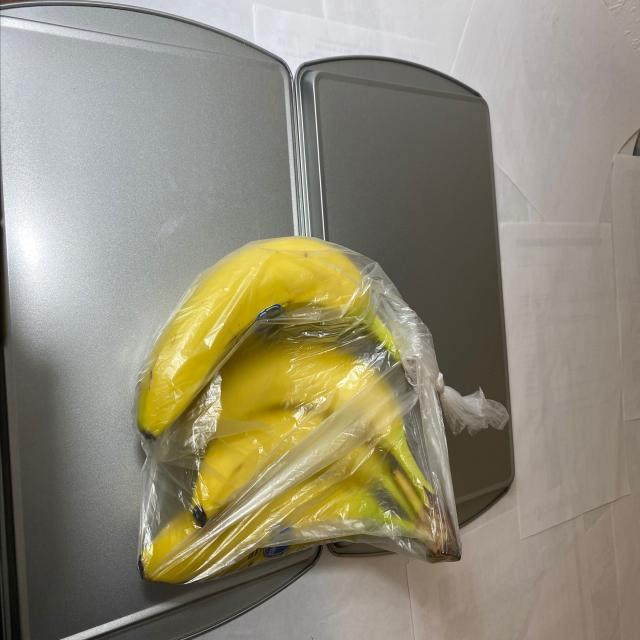banana: (106, 238, 465, 594)
